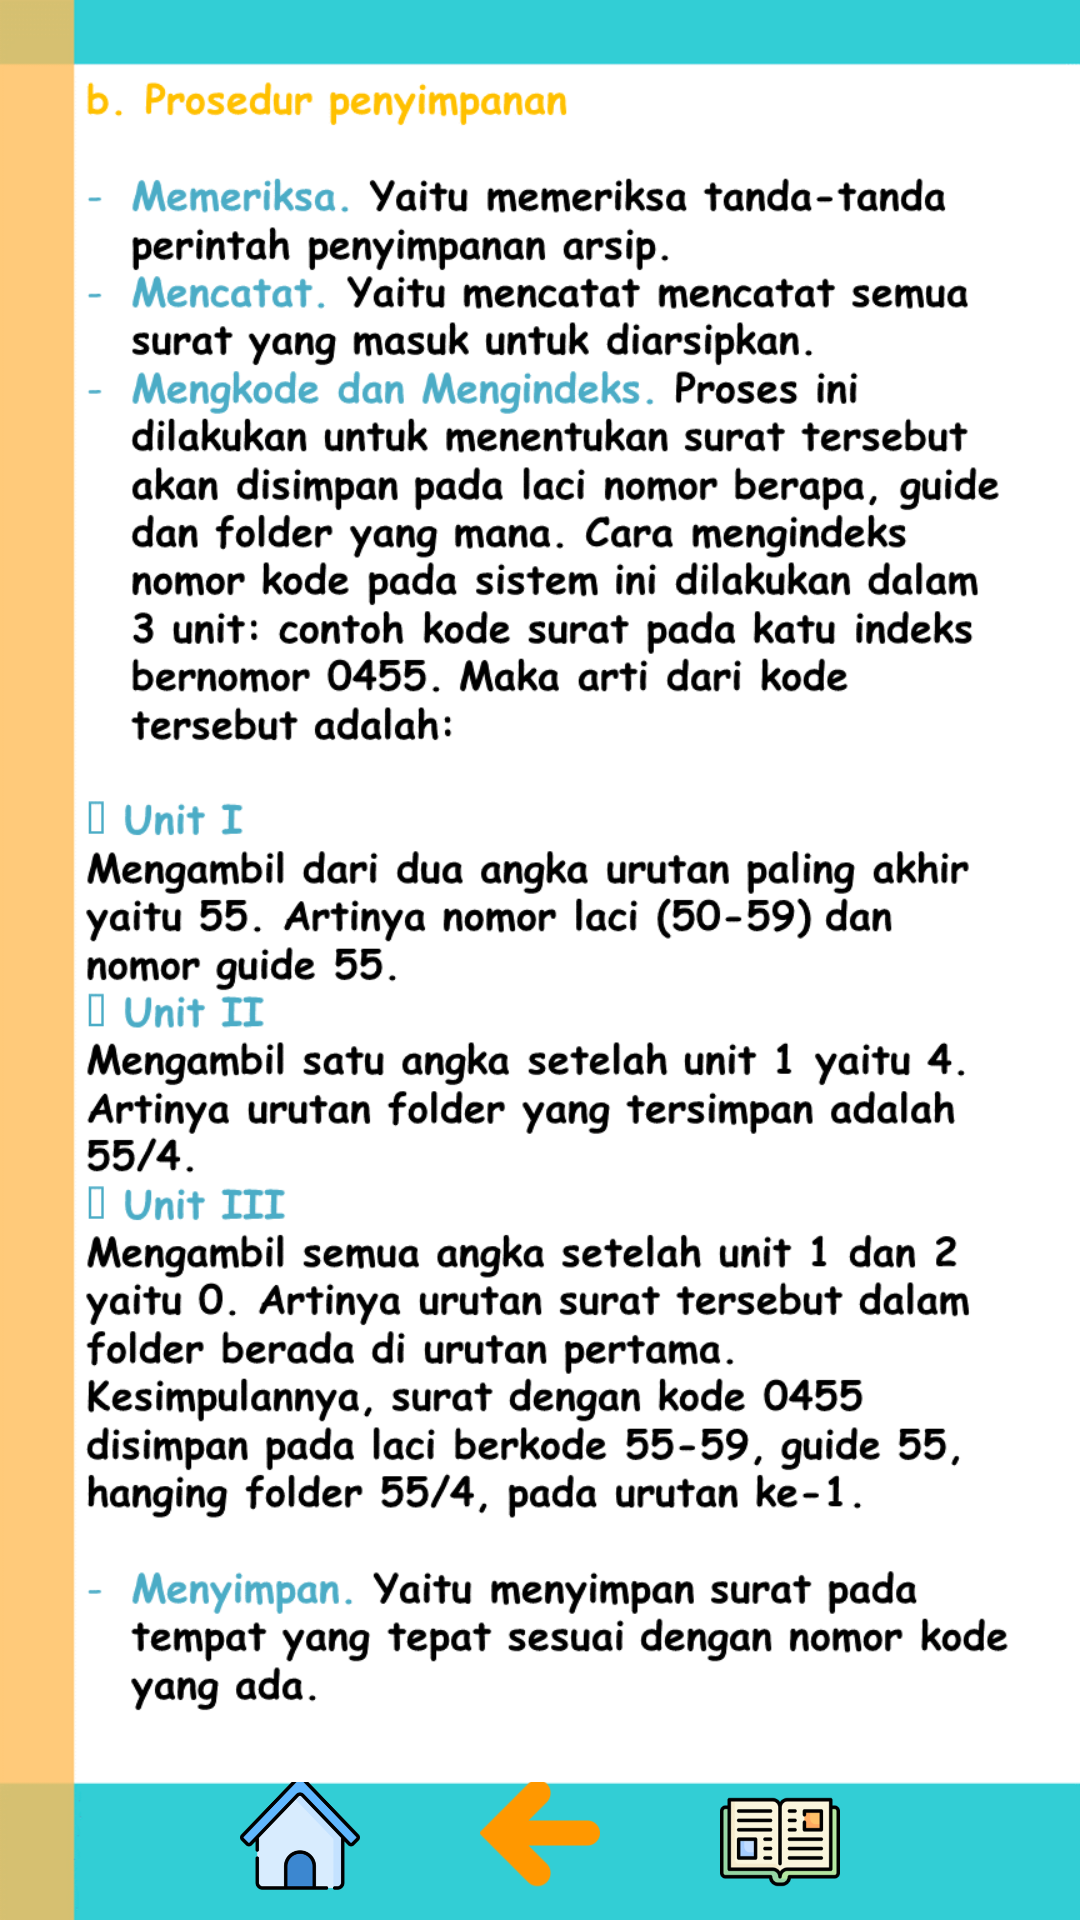

Screen size 1080*1920. Icon name, then its center in pixels as point (x, y):
home: point (300, 1836)
materi: point (780, 1842)
prev: point (540, 1834)
